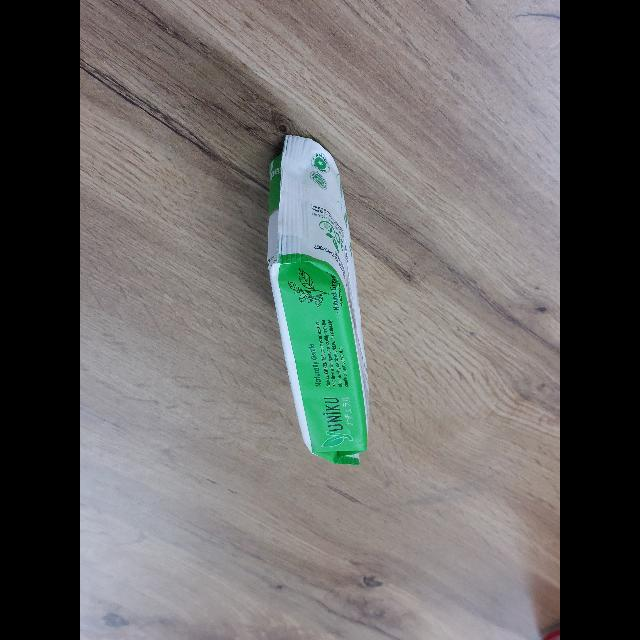khan_giay: (268, 136, 368, 465)
